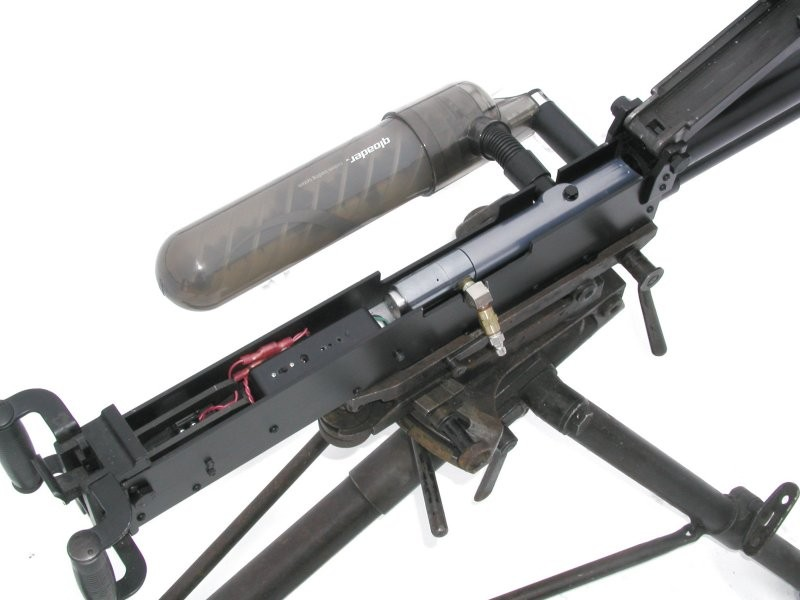rifle: (16, 30, 792, 574)
